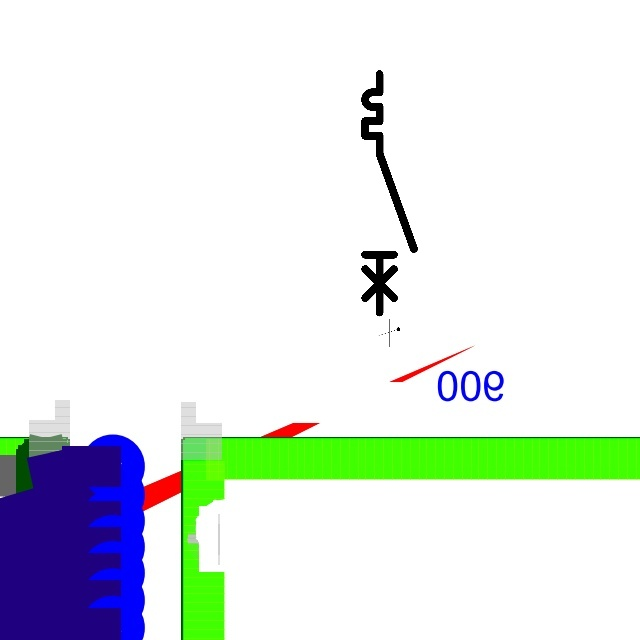interruptor_termomagnetico: (359, 68, 420, 318)
